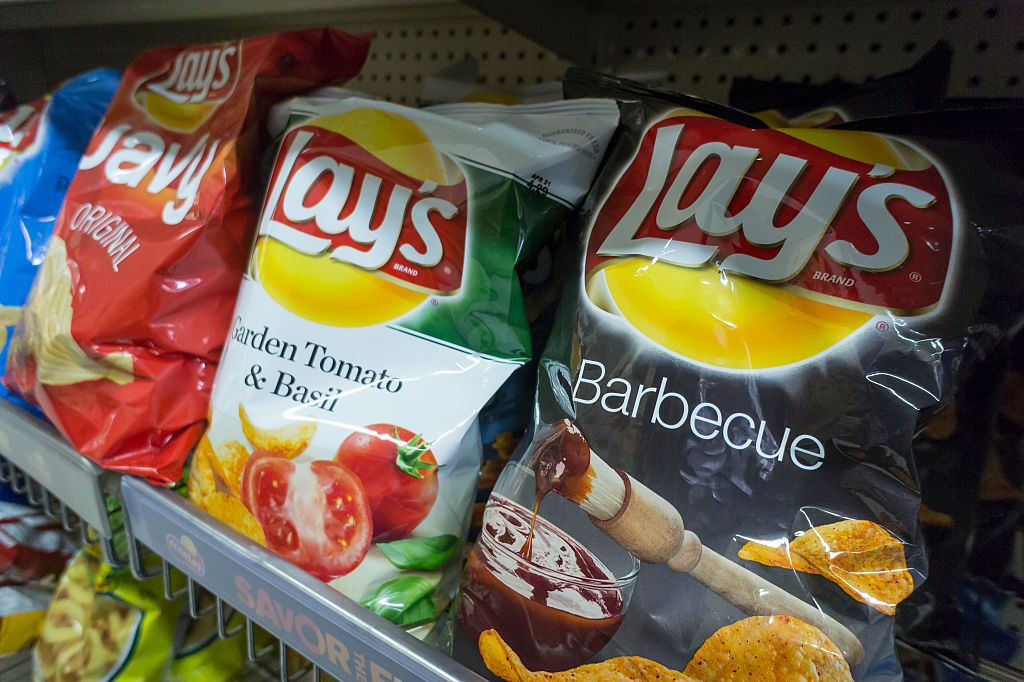chip: (575, 100, 929, 682), (255, 106, 547, 645), (21, 43, 244, 488)
